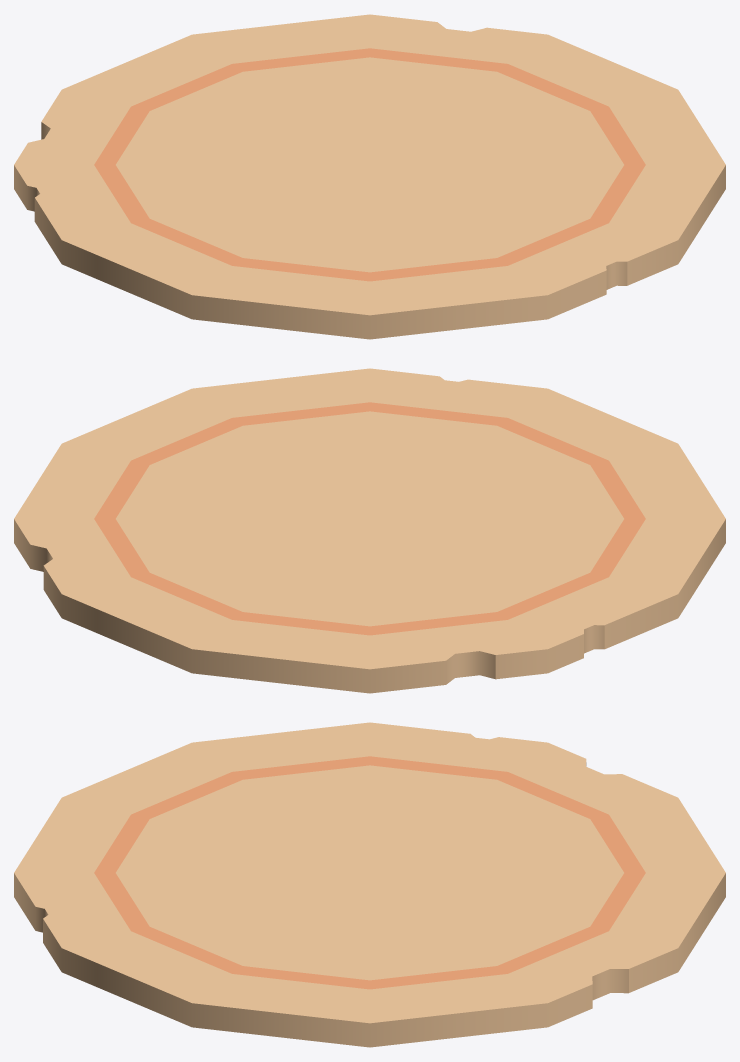
Rendered from cuttingBoardRound.dae.
The picture shows the model from 3 angles, top to bottom: view 1: azimuth 30°, elevation 25°; view 2: azimuth 150°, elevation 25°; view 3: azimuth 270°, elevation 25°; orthographic projection.
Parts seen in each view (by area): view 1: cuttingBoardRound; view 2: cuttingBoardRound; view 3: cuttingBoardRound.
Boxes of the visible parts, <box> form: cuttingBoardRound: <box>14,14,725,339</box>; cuttingBoardRound: <box>14,368,725,693</box>; cuttingBoardRound: <box>14,722,725,1047</box>.
Size of the model in its own units: 0.8 by 0.03 by 0.8.
